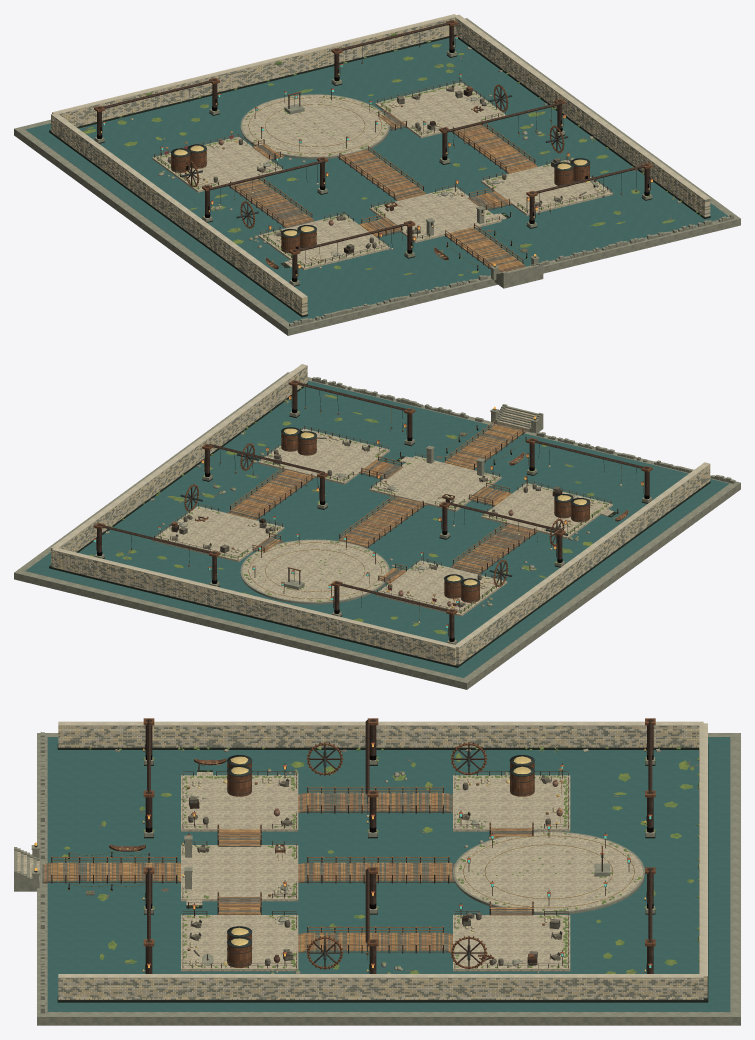
File: mill-cellar.glb
3 renders of one model, top to bottom at view 1: azimuth 30°, elevation 25°; view 2: azimuth 150°, elevation 25°; view 3: azimuth 270°, elevation 25°, orthographic. The views are drawn at different scales.
Visible parts, largest first — view 1: Water surface | water, Raised flagstone rooms | paving, Cellar foundation | stone, Boundary / individual masonry blocks | stone, Boundary / individual masonry blocks | wall, Boundary / individual masonry blocks | plaster, Spirit arena paved surface | paving, Boundary / wall coping | plaster, Bridge / separate deck boards | wood_weathered, Bridge / separate deck boards | plank, Bridge / separate deck boards | wood_light, Overhead support beams | darkwood (+15 smaller); view 2: Water surface | water, Raised flagstone rooms | paving, Cellar foundation | stone, Boundary / individual masonry blocks | wall, Boundary / individual masonry blocks | plaster, Boundary / individual masonry blocks | stone, Spirit arena paved surface | paving, Boundary / wall coping | plaster, Bridge / separate deck boards | wood_weathered, Bridge / separate deck boards | plank, Bridge / separate deck boards | wood_light, Wall damp band | wetstone (+12 smaller); view 3: Water surface | water, Raised flagstone rooms | paving, Cellar foundation | stone, Boundary / individual masonry blocks | stone, Boundary / individual masonry blocks | wall, Boundary / individual masonry blocks | plaster, Spirit arena paved surface | paving, Boundary / wall coping | plaster, Bridge / separate deck boards | wood_weathered, Bridge / separate deck boards | plank, Bridge / separate deck boards | wood_light, Wall damp band | wetstone (+19 smaller).
Boxes of the visible parts, x1,y1,x2,y2 form: Water surface | water: [25, 36, 728, 322]; Raised flagstone rooms | paving: [152, 82, 612, 269]; Cellar foundation | stone: [14, 18, 740, 335]; Boundary / individual masonry blocks | stone: [51, 18, 710, 312]; Boundary / individual masonry blocks | wall: [51, 18, 710, 314]; Boundary / individual masonry blocks | plaster: [51, 17, 710, 315]; Spirit arena paved surface | paving: [242, 95, 388, 156]; Boundary / wall coping | plaster: [51, 14, 710, 298]; Bridge / separate deck boards | wood_weathered: [229, 113, 531, 272]; Bridge / separate deck boards | plank: [230, 115, 537, 269]; Bridge / separate deck boards | wood_light: [233, 113, 535, 272]; Overhead support beams | darkwood: [99, 21, 647, 251]; Water surface | water: [26, 380, 729, 677]; Raised flagstone rooms | paving: [152, 428, 612, 616]; Cellar foundation | stone: [14, 372, 740, 689]; Boundary / individual masonry blocks | wall: [51, 367, 710, 665]; Boundary / individual masonry blocks | plaster: [51, 369, 710, 664]; Boundary / individual masonry blocks | stone: [51, 366, 710, 664]; Spirit arena paved surface | paving: [242, 540, 388, 601]; Boundary / wall coping | plaster: [51, 364, 709, 648]; Bridge / separate deck boards | wood_weathered: [228, 424, 537, 582]; Bridge / separate deck boards | plank: [228, 425, 534, 582]; Bridge / separate deck boards | wood_light: [234, 424, 538, 582]; Wall damp band | wetstone: [49, 383, 710, 667]; Water surface | water: [47, 737, 730, 1011]; Raised flagstone rooms | paving: [181, 775, 570, 971]; Cellar foundation | stone: [37, 733, 740, 1025]; Boundary / individual masonry blocks | stone: [58, 726, 707, 999]; Boundary / individual masonry blocks | wall: [58, 726, 707, 999]; Boundary / individual masonry blocks | plaster: [58, 726, 707, 999]; Spirit arena paved surface | paving: [455, 832, 642, 911]; Boundary / wall coping | plaster: [58, 721, 707, 978]; Bridge / separate deck boards | wood_weathered: [42, 792, 532, 951]; Bridge / separate deck boards | plank: [51, 792, 532, 952]; Bridge / separate deck boards | wood_light: [44, 792, 532, 952]; Wall damp band | wetstone: [57, 744, 708, 1002].
Bounding box in the file's own units: 126 × 11.05 × 136.
Materials: 32 (32 with a texture image).
